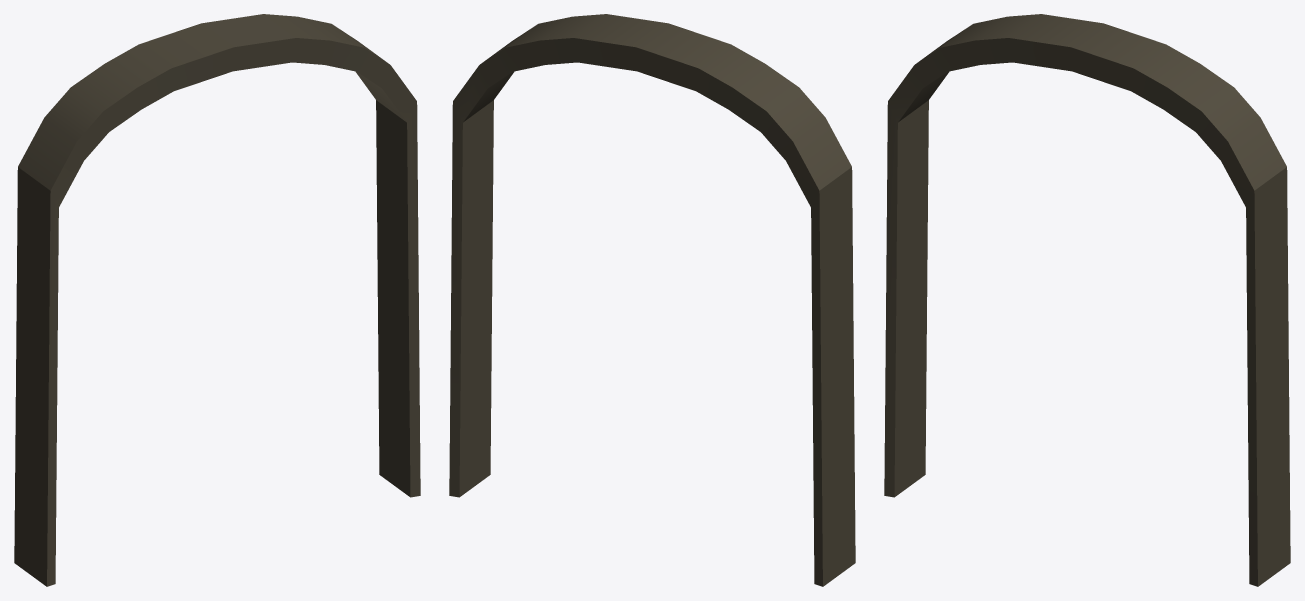
The model's file is ArchSmlFrame.fbx.
3 views of the same model, side by side, from view 1: azimuth 30°, elevation 25°; view 2: azimuth 150°, elevation 25°; view 3: azimuth 330°, elevation 25° (orthographic).
Visible parts, largest first — view 1: ArchSmlFrame; view 2: ArchSmlFrame; view 3: ArchSmlFrame.
Boxes of the visible parts, box(x1,y1,x2,y2) form: ArchSmlFrame: box(14, 14, 420, 586); ArchSmlFrame: box(449, 14, 855, 586); ArchSmlFrame: box(884, 14, 1290, 586).
Bounding box in the file's own units: 198 × 29.95 × 250.
